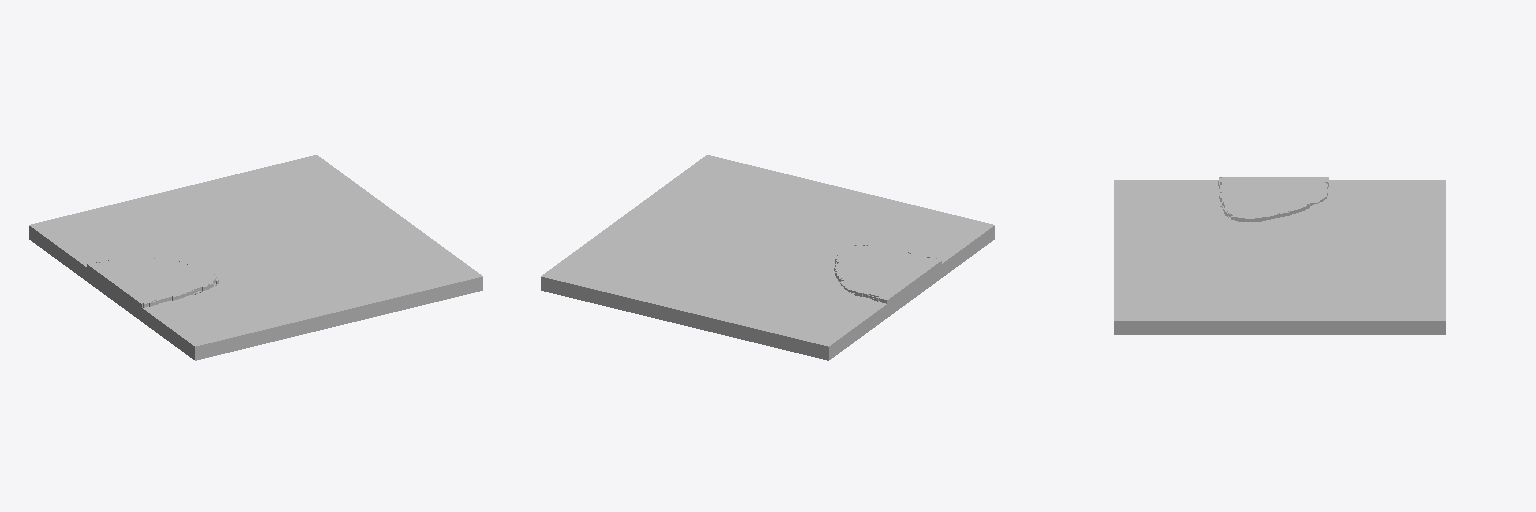
Rendered from lvl1-8.obj.
3 views of the same model, side by side, from view 1: azimuth 30°, elevation 25°; view 2: azimuth 150°, elevation 25°; view 3: azimuth 270°, elevation 25° (orthographic).
Parts seen in each view (by area): view 1: object 1; view 2: object 1; view 3: object 1.
Part boxes in pixels (x1,y1,x2,y2): object 1: (29, 155, 482, 360); object 1: (541, 155, 994, 360); object 1: (1114, 177, 1445, 334).
Size of the model in its own units: 25.6 by 1.5 by 25.6.